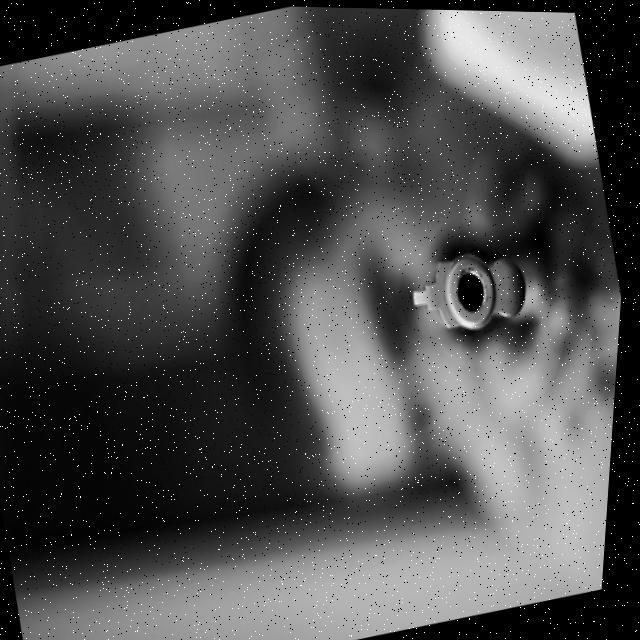pistol: (394, 208, 551, 368)
